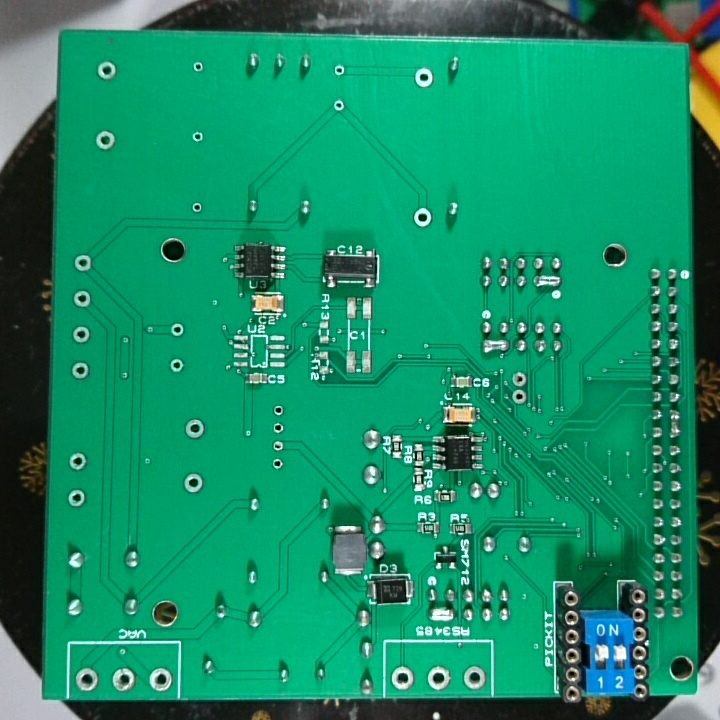F: (461, 662, 488, 695), (424, 663, 453, 692), (147, 665, 175, 695), (109, 663, 137, 693), (72, 663, 100, 693), (390, 662, 416, 692), (179, 469, 205, 498), (181, 416, 207, 440), (95, 58, 119, 83), (70, 323, 95, 346), (94, 127, 116, 153), (67, 485, 87, 512), (412, 66, 435, 89), (70, 359, 91, 383), (510, 385, 531, 409), (413, 206, 433, 230), (68, 450, 89, 472), (71, 289, 93, 310), (269, 452, 289, 474), (73, 251, 92, 274), (168, 320, 187, 340), (510, 369, 529, 389), (188, 128, 206, 148), (267, 436, 287, 454), (168, 354, 185, 375), (330, 95, 347, 115), (331, 61, 348, 80), (189, 198, 206, 217), (271, 401, 286, 419), (191, 57, 205, 76), (270, 420, 286, 435)
P: (480, 336, 510, 358), (665, 406, 683, 440), (531, 271, 563, 290), (424, 605, 456, 623)
